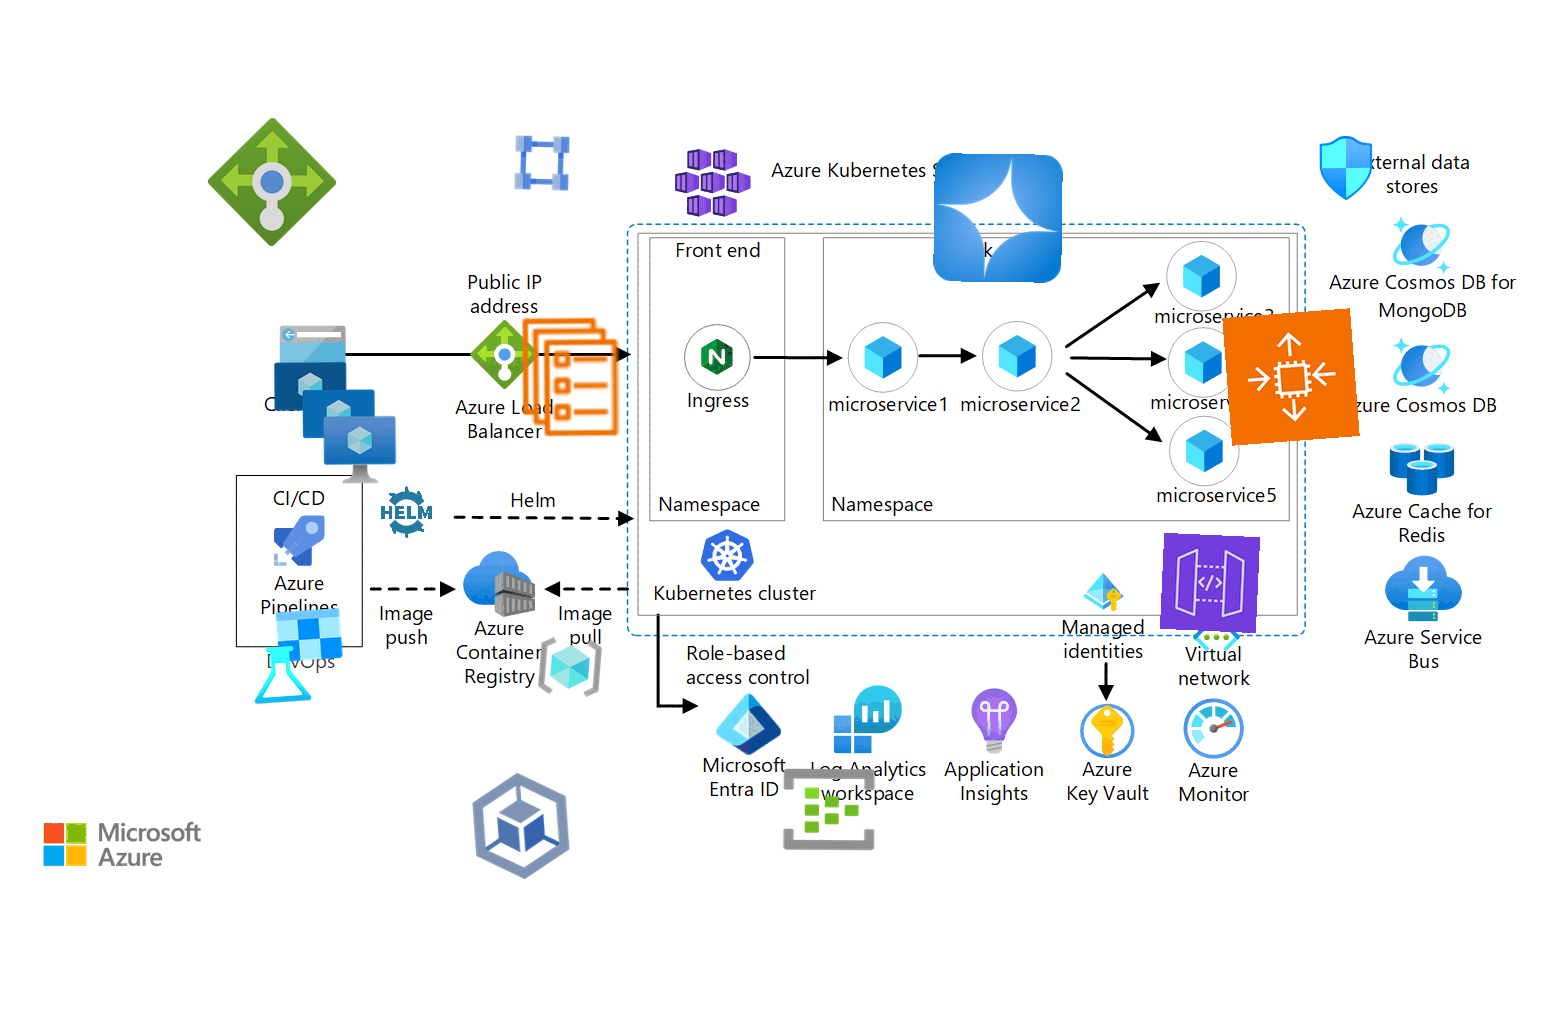aws_amazon_api_gateway: (1159, 532, 1261, 634)
aws_amazon_ec2_auto_scaling: (1222, 308, 1360, 446)
aws_elastic_container_service_service: (506, 312, 636, 442)
azure_event_hubs: (780, 760, 878, 859)
azure_load_balancers: (207, 117, 337, 246)
azure_machine_learning_studio_workspaces: (245, 604, 349, 708)
azure_network_security_groups: (1313, 135, 1379, 201)
azure_openai: (933, 152, 1063, 283)
azure_resource_groups: (535, 632, 605, 701)
azure_vm_scale_sets: (268, 355, 398, 485)
gcp_google_kubernetes_engine: (453, 756, 590, 895)
gcp_virtual_private_cloud: (509, 130, 575, 196)
